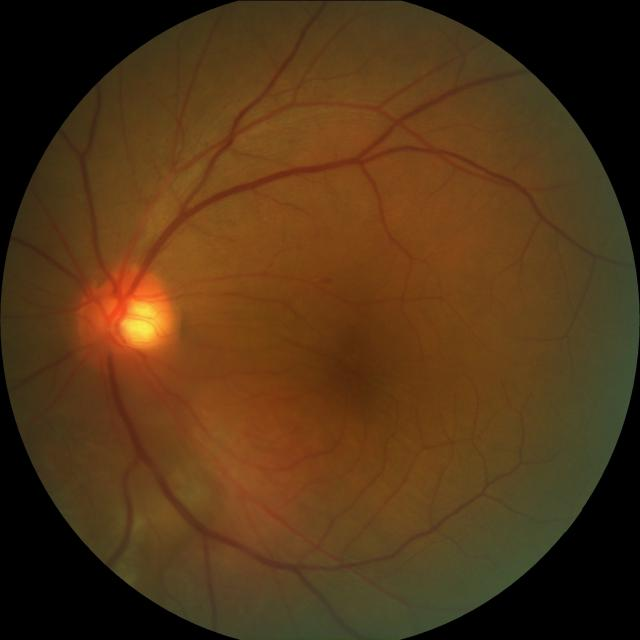OC: (108, 292, 164, 348)
OD: (75, 264, 171, 373)
